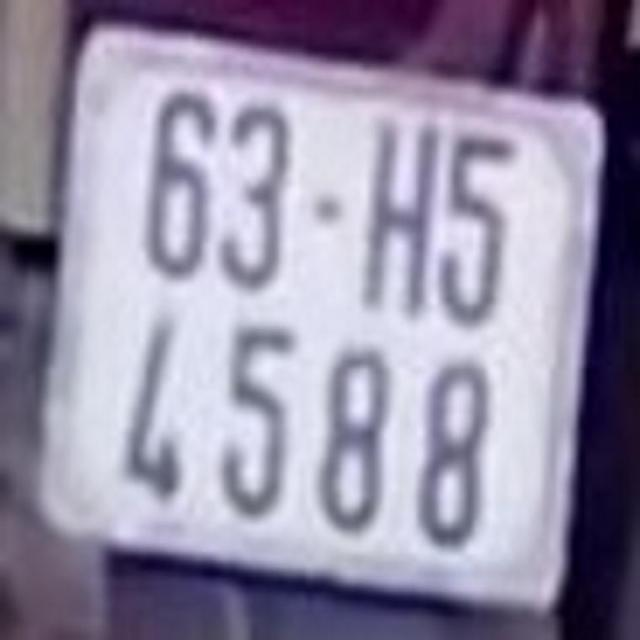3: (228, 105, 285, 298)
4: (125, 310, 186, 508)
5: (444, 130, 511, 325), (232, 320, 292, 517)
6: (144, 88, 211, 274)
8: (418, 359, 490, 554), (325, 346, 383, 528)
H: (366, 127, 432, 316)
